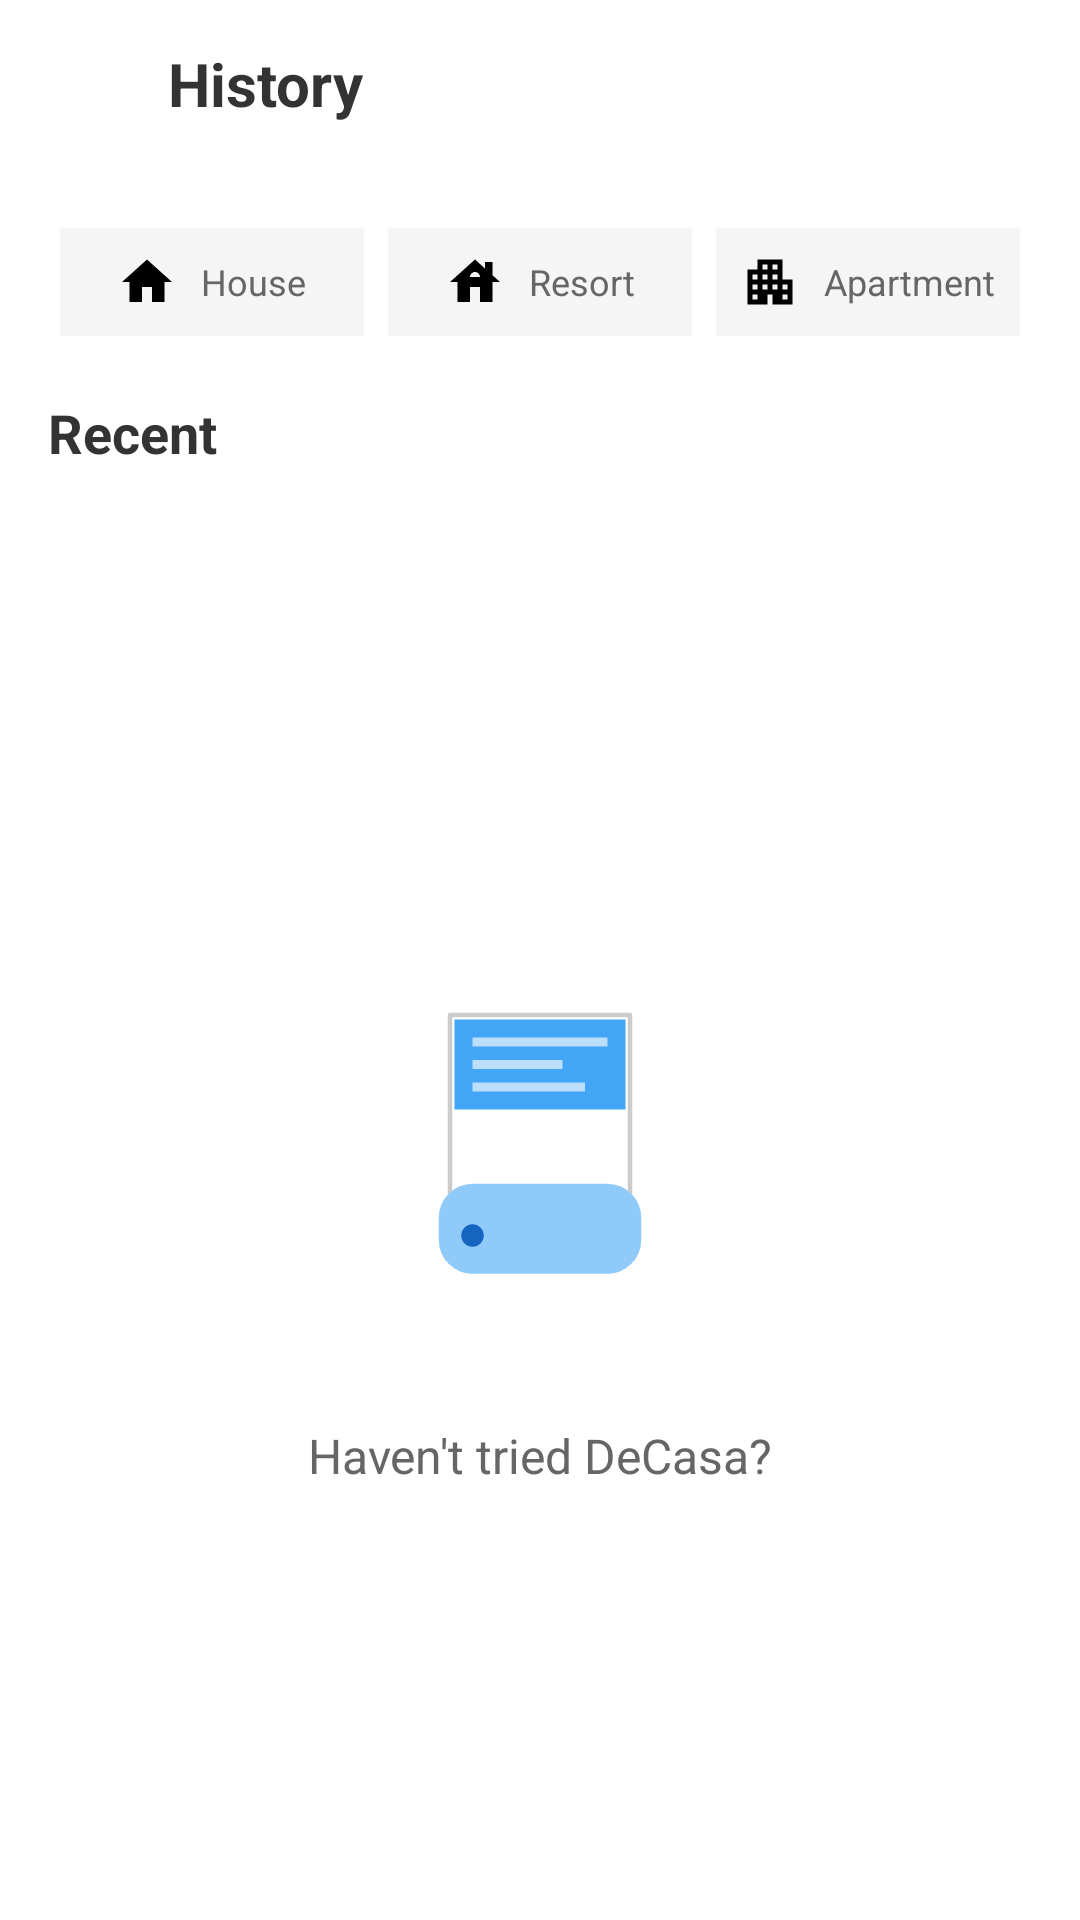

Named icons in this screenshot (1080×1920) and their bounding boxes, {"x1": x1, "y1": y1, "x2": x2, "y2": y2}:
apartement: {"x1": 747, "y1": 259, "x2": 793, "y2": 305}
villa: {"x1": 450, "y1": 259, "x2": 500, "y2": 302}
